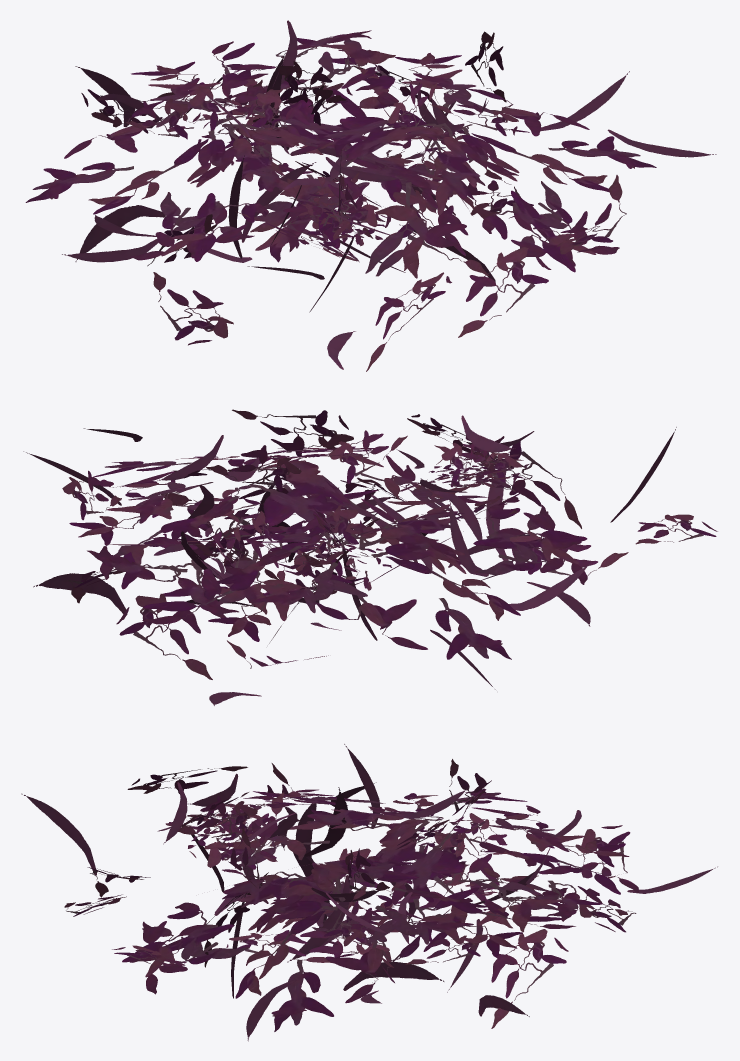
The picture shows the model from 3 angles, top to bottom: view 1: azimuth 30°, elevation 25°; view 2: azimuth 150°, elevation 25°; view 3: azimuth 270°, elevation 25°; orthographic projection. The views are drawn at different scales.
Parts seen in each view (by area): view 1: SM_GF_Leaf_Piles_01_LOD0; view 2: SM_GF_Leaf_Piles_01_LOD0; view 3: SM_GF_Leaf_Piles_01_LOD0.
Boxes of the visible parts, x1,y1,x2,y2 form: SM_GF_Leaf_Piles_01_LOD0: [25, 20, 716, 371]; SM_GF_Leaf_Piles_01_LOD0: [23, 409, 717, 705]; SM_GF_Leaf_Piles_01_LOD0: [21, 744, 717, 1041].
Bounding box in the file's own units: 1.43 × 0.4064 × 1.57.
1 material, 1 textured.
